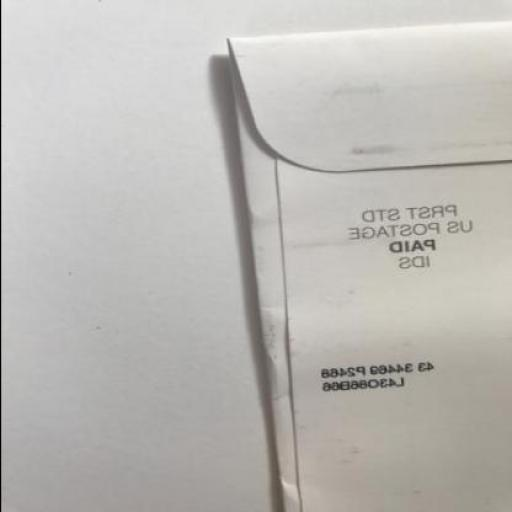paper: (224, 20, 511, 510)
